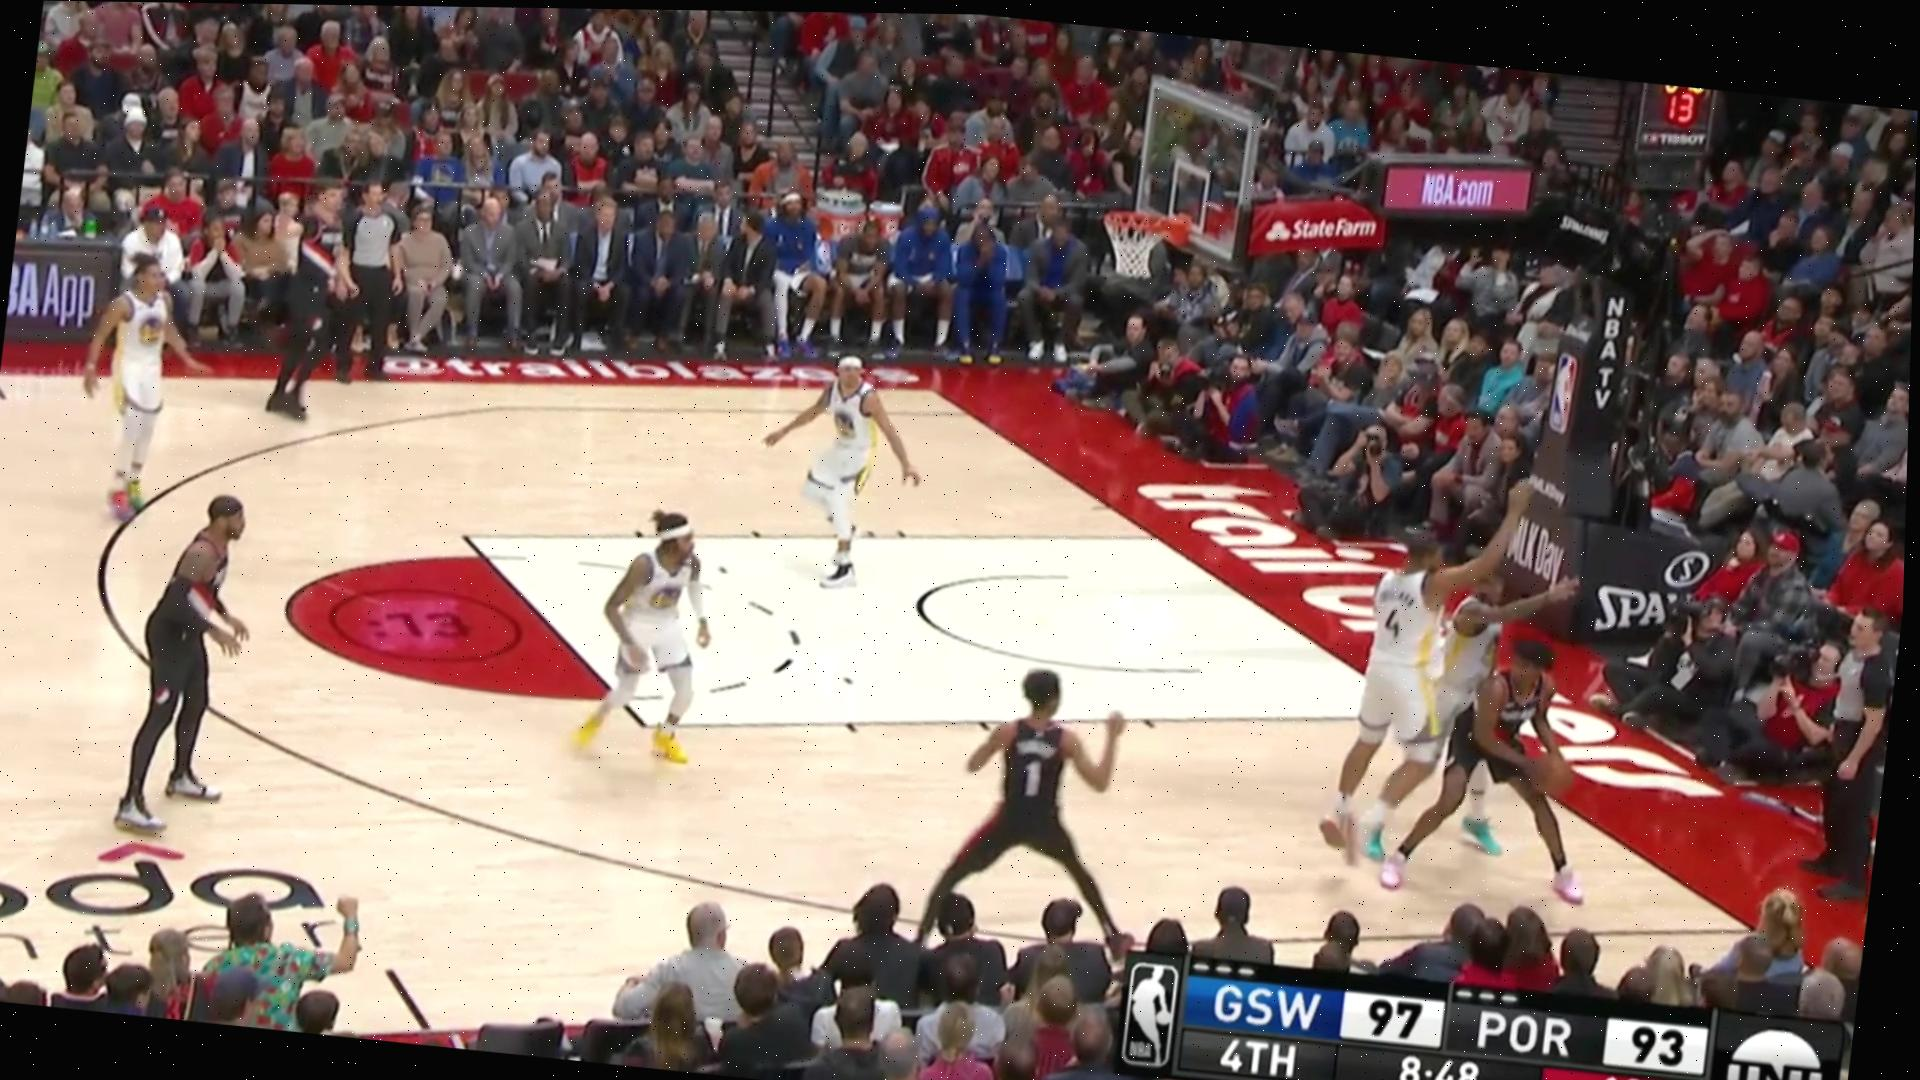no_foul: (1348, 539, 1594, 861)
